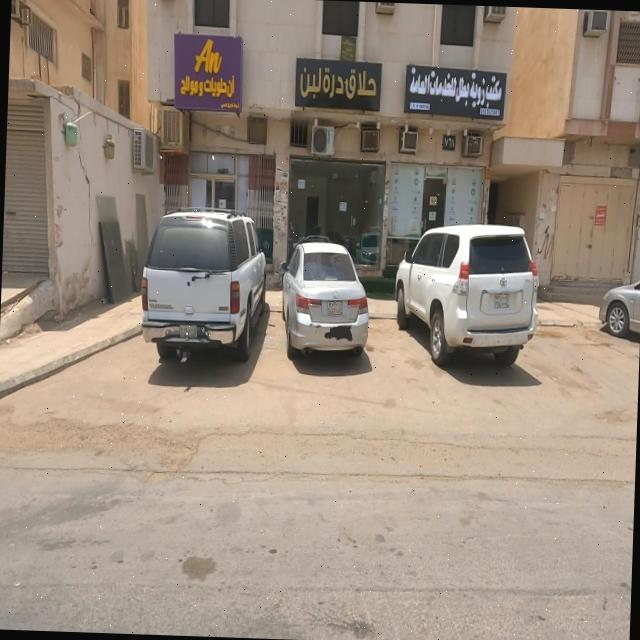Graffiti: (536, 233, 556, 260)
